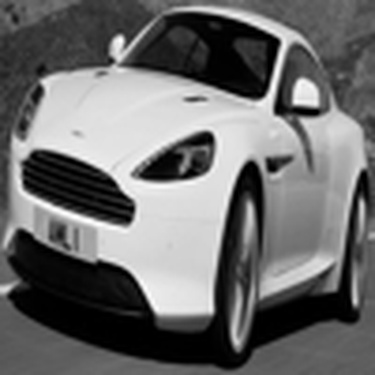car: (13, 10, 365, 359)
